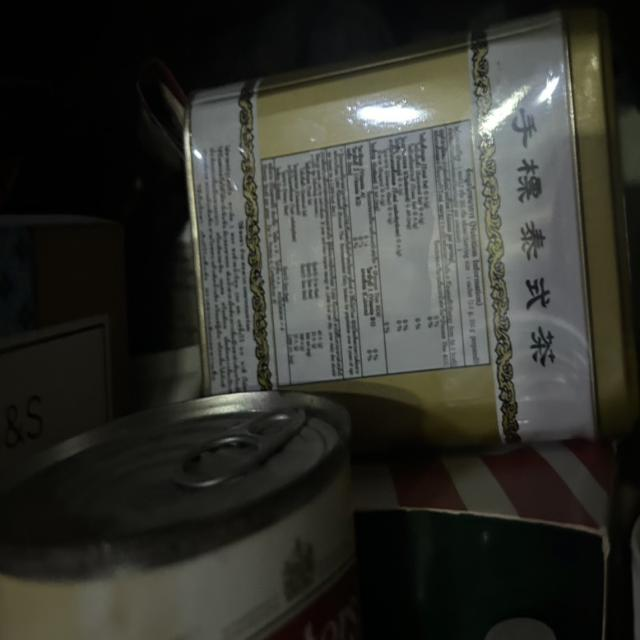can: (180, 10, 640, 442)
